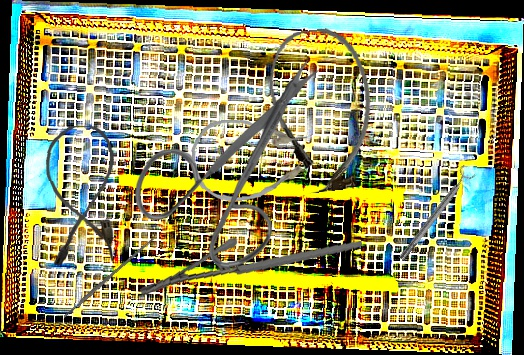Cannula: (262, 24, 382, 197), (189, 115, 312, 204), (44, 124, 118, 266)
Fixation Ring: (393, 163, 478, 265)
Iris Scissors: (131, 56, 326, 270)
Needle Holder: (137, 215, 363, 323)
Scalpel Handle: (61, 236, 156, 319)
